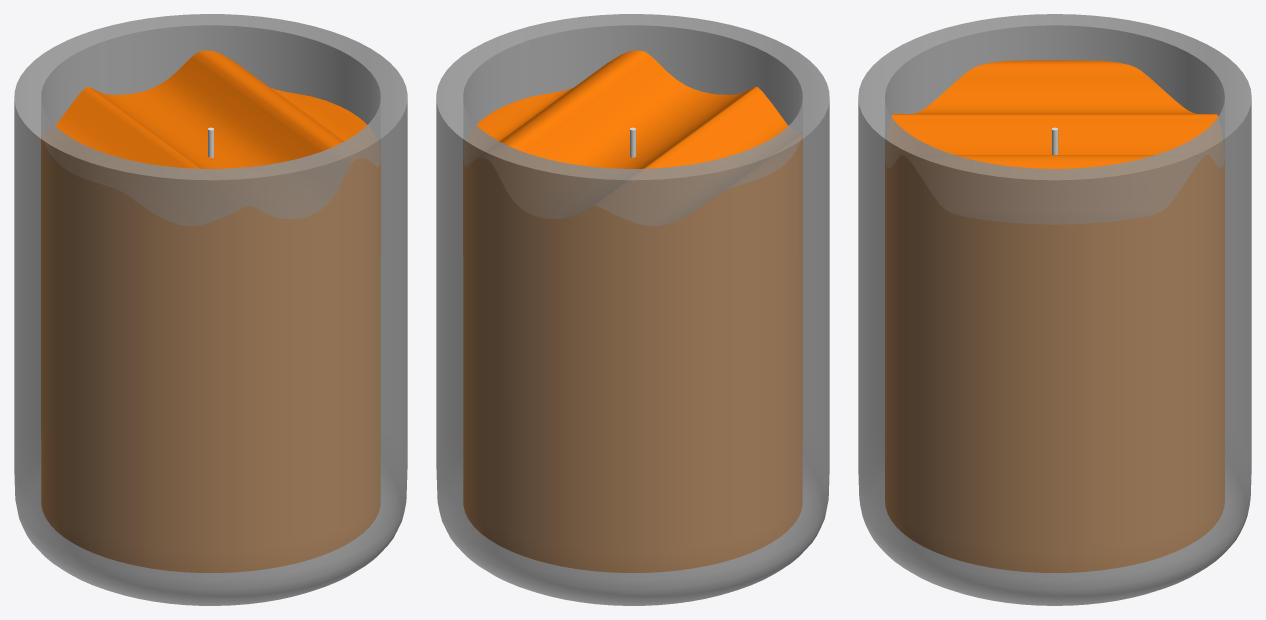
The model's file is candle.fbx.
3 renders of one model, left to right at view 1: azimuth 30°, elevation 25°; view 2: azimuth 150°, elevation 25°; view 3: azimuth 270°, elevation 25°, orthographic.
Visible parts, largest first — view 1: candle stick, candle; view 2: candle stick, candle; view 3: candle stick, candle.
Part boxes in pixels (x1,y1,x2,y2): candle stick: (14, 14, 407, 605); candle: (41, 50, 380, 572); candle stick: (436, 14, 829, 605); candle: (463, 50, 802, 572); candle stick: (858, 14, 1251, 605); candle: (885, 60, 1224, 572).
Bounding box in the file's own units: 0.884 × 1.11 × 0.884.
